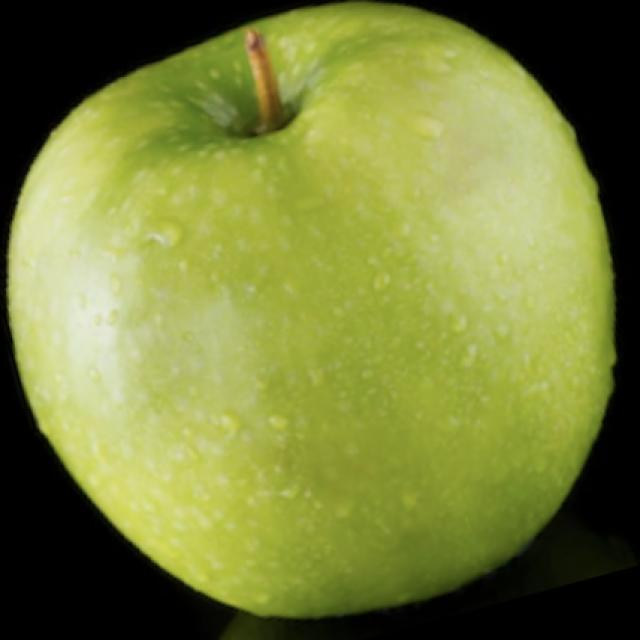Apple: (5, 0, 618, 620)
